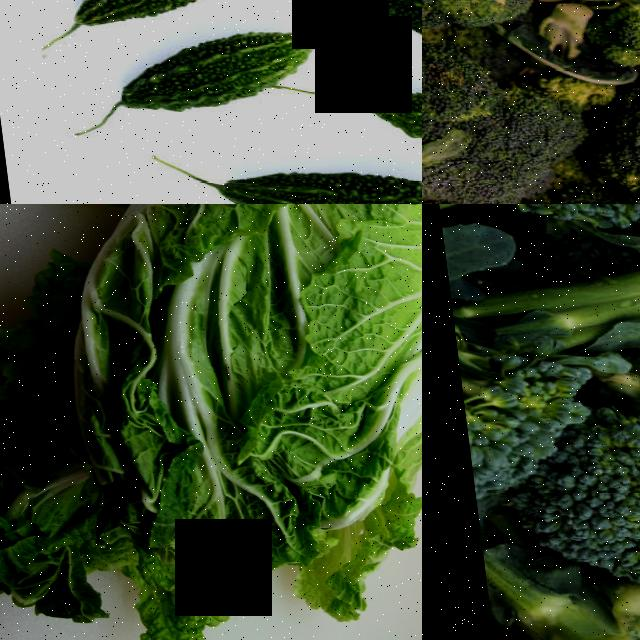bitter gourd: (81, 27, 322, 132), (185, 166, 422, 204), (30, 0, 253, 36), (306, 0, 422, 55), (356, 77, 422, 160)
broccoli: (436, 234, 640, 441), (422, 70, 560, 204), (515, 448, 640, 594), (573, 82, 640, 204), (574, 0, 640, 78), (422, 0, 529, 25)
cabbage: (0, 204, 422, 640)
